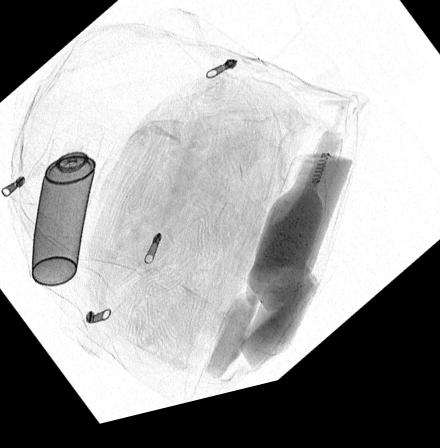Sprayer: (32, 128, 103, 289)
